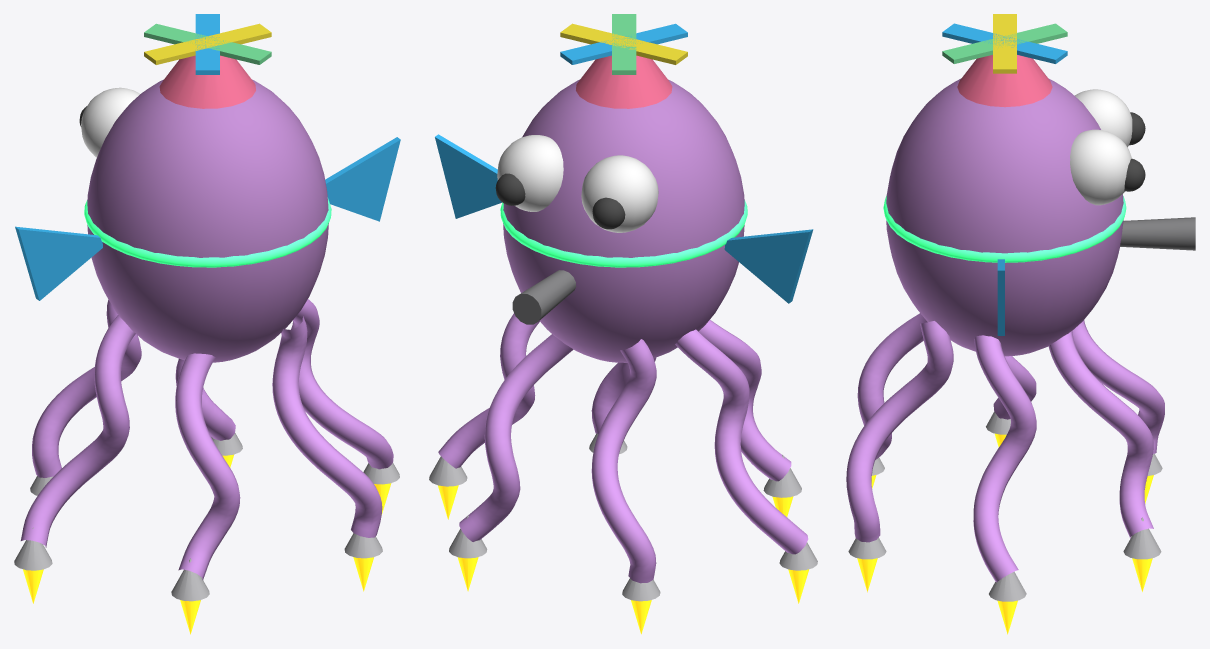
File: Squidrocket.glb
3 views of the same model, side by side, from view 1: azimuth 30°, elevation 25°; view 2: azimuth 150°, elevation 25°; view 3: azimuth 270°, elevation 25° (orthographic).
Parts seen in each view (by area): view 1: Squidrocket; view 2: Squidrocket; view 3: Squidrocket.
Boxes of the visible parts, <box> form: Squidrocket: <box>14,14,400,634</box>; Squidrocket: <box>429,14,817,634</box>; Squidrocket: <box>846,14,1195,634</box>.
Bounding box in the file's own units: 1.82 × 2.36 × 1.47.
